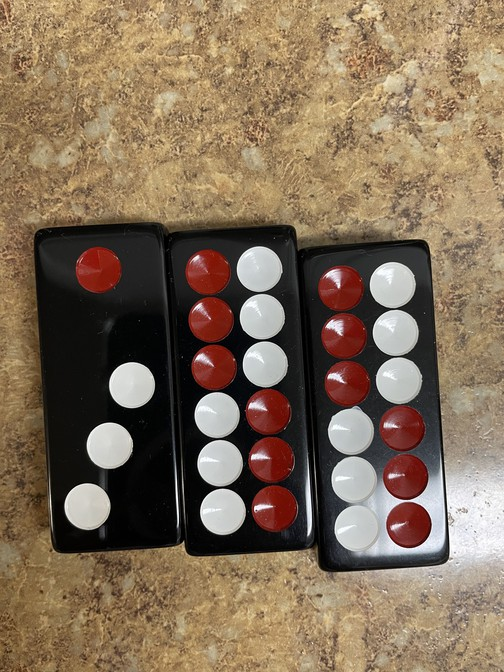goose: (32, 225, 186, 553)
heaven: (300, 246, 453, 569), (172, 227, 317, 555)
